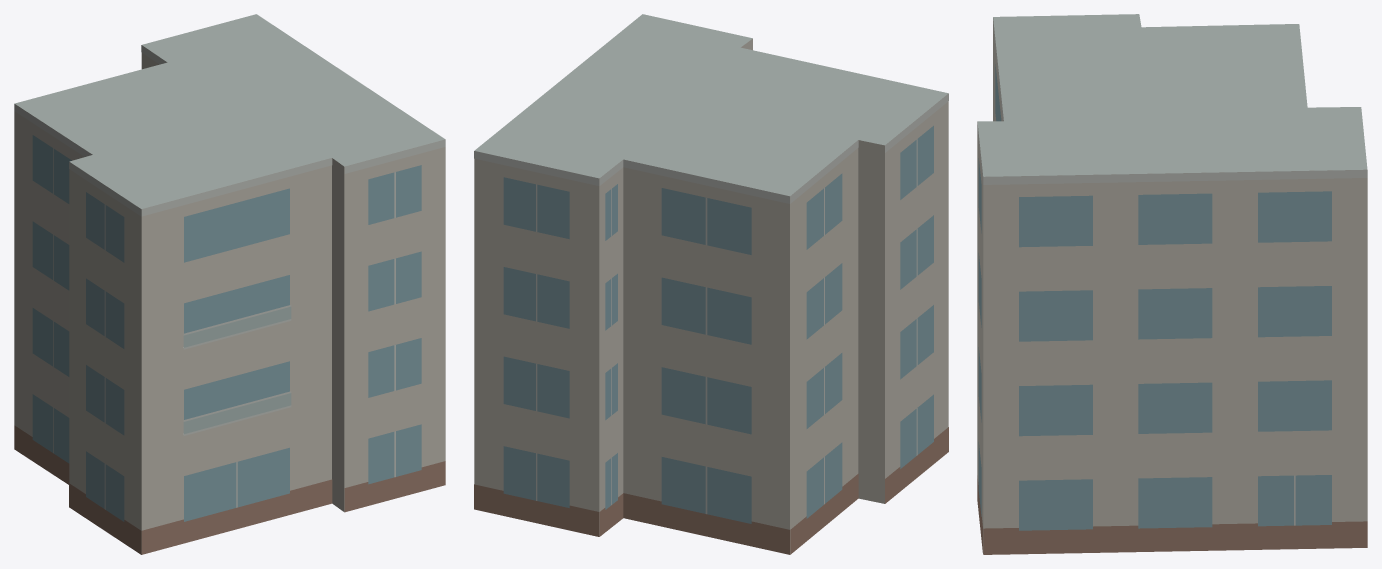
The model's file is survey-upis-32491240.glb.
The picture shows the model from 3 angles, left to right: view 1: azimuth 30°, elevation 25°; view 2: azimuth 150°, elevation 25°; view 3: azimuth 270°, elevation 25°; orthographic projection. The views are drawn at different scales.
Visible parts, largest first — view 1: survey-upis-32491240.tmp; view 2: survey-upis-32491240.tmp; view 3: survey-upis-32491240.tmp.
Part boxes in pixels (x1,y1,x2,y2): survey-upis-32491240.tmp: [14, 14, 445, 554]; survey-upis-32491240.tmp: [474, 14, 948, 554]; survey-upis-32491240.tmp: [977, 14, 1367, 554].
Bounding box in the file's own units: 10.45 × 11.3 × 10.58.
